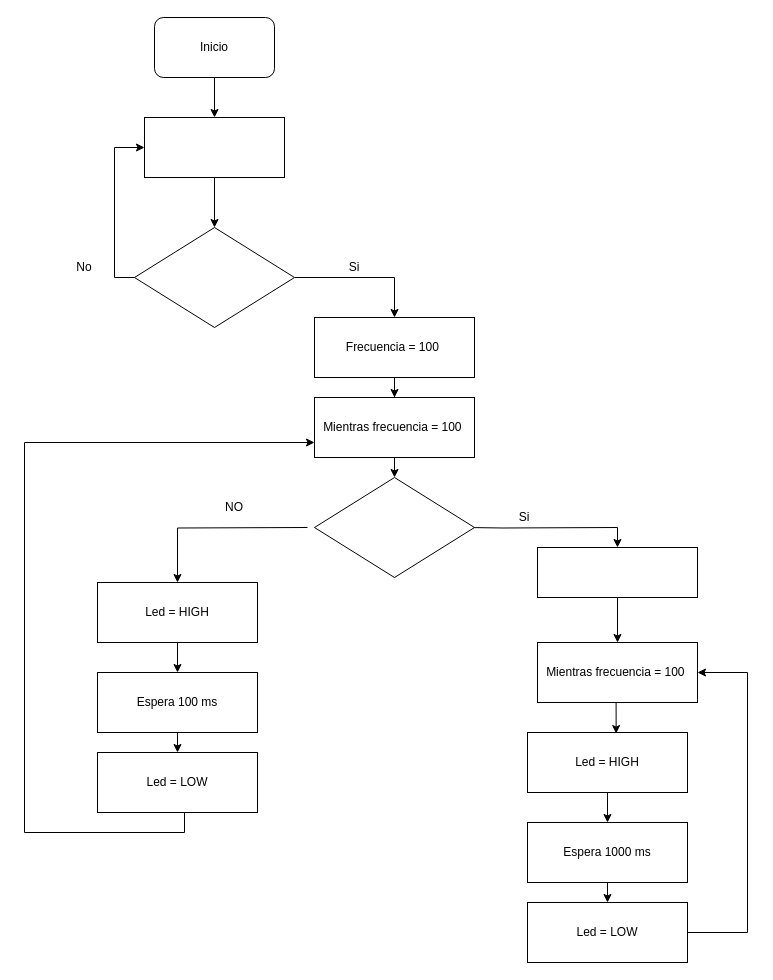
Image size: 773x980. Some labels were removed from this diagram. The shapes that lost their labels are listed below. From the top down, each one's centre as x and y in pixels, then its label:
At (214,147): "Mientras frecuencia =0".
At (214,277): "Si botón rapido == HIGH".
At (394,527): "Si botón Lento == HIGH".
At (617,572): "Frecuencia = 1000".
